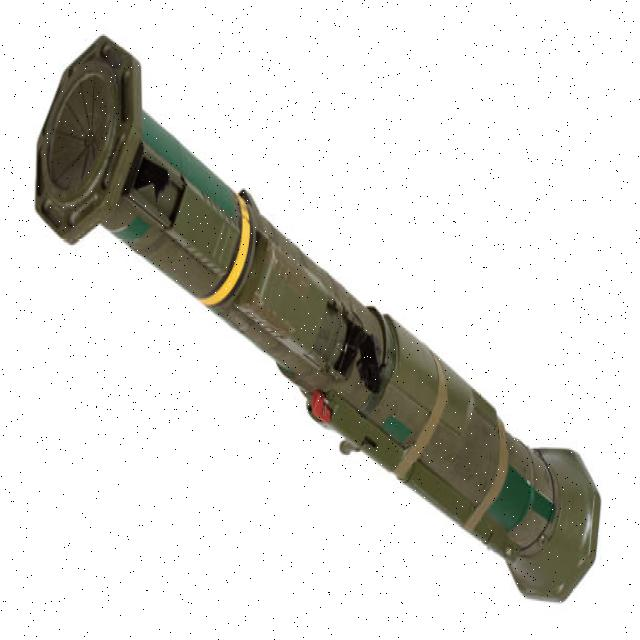bazooka: (28, 20, 607, 614)
